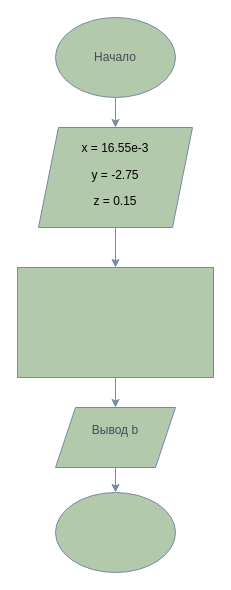
Some shapes in this 231 by 590 pixel diagram are drawn without their labels. Each missing label, with the centre of its shape:
b = sqrt(10 * (cbrt (x) + pow(x, y+2))) * (asin²z - |x-y|): the point at 115,322
Конец: the point at 115,532
